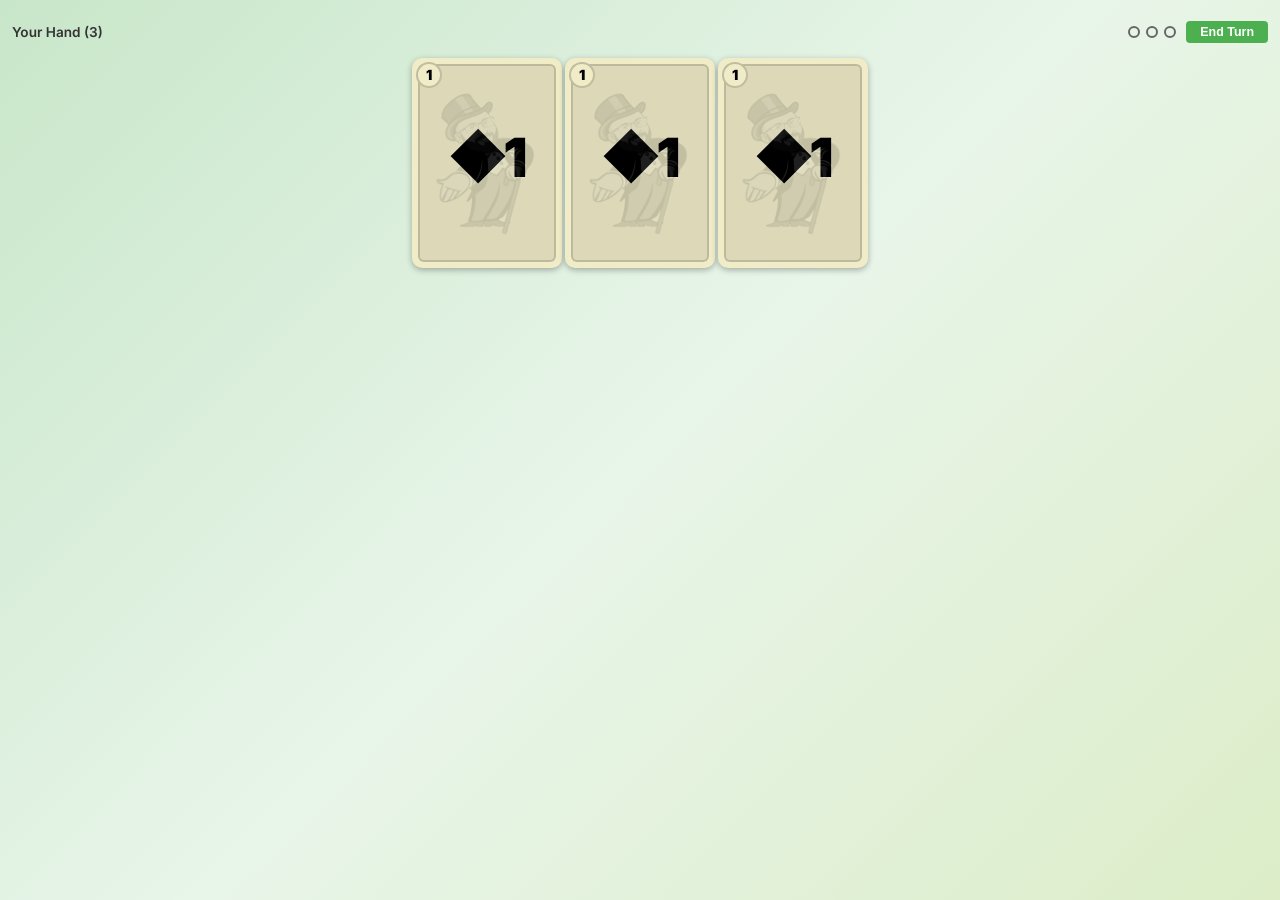
Test case: Hand › clicking a card in Play phase opens PlayCardModal
Click the element with class "md-card" showing "◆1 1": (487, 163) 412,58 -> 562,268
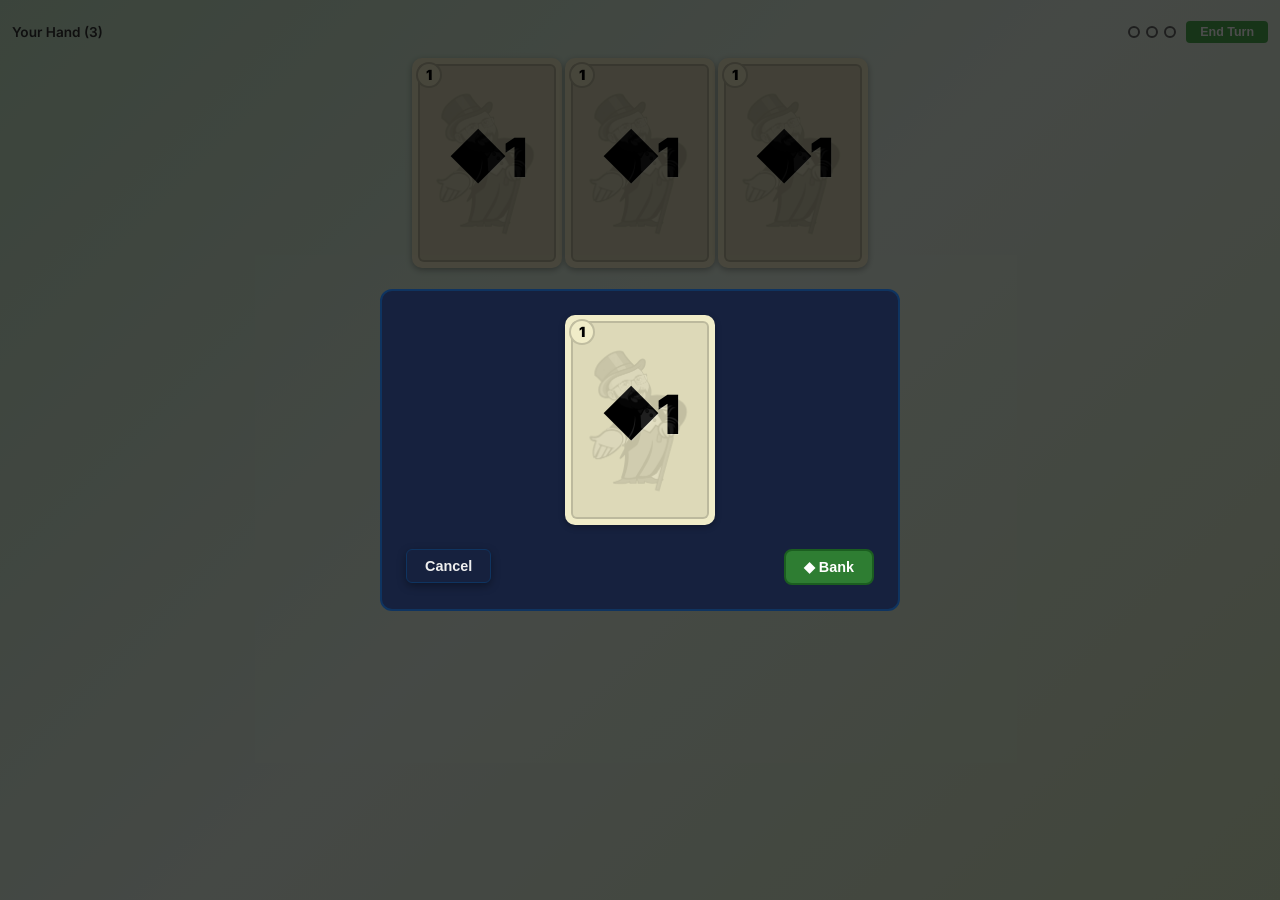
expect the element showing "◆1 1 Cancel ◆ Bank" is shown: met, box 380,289 -> 900,611
